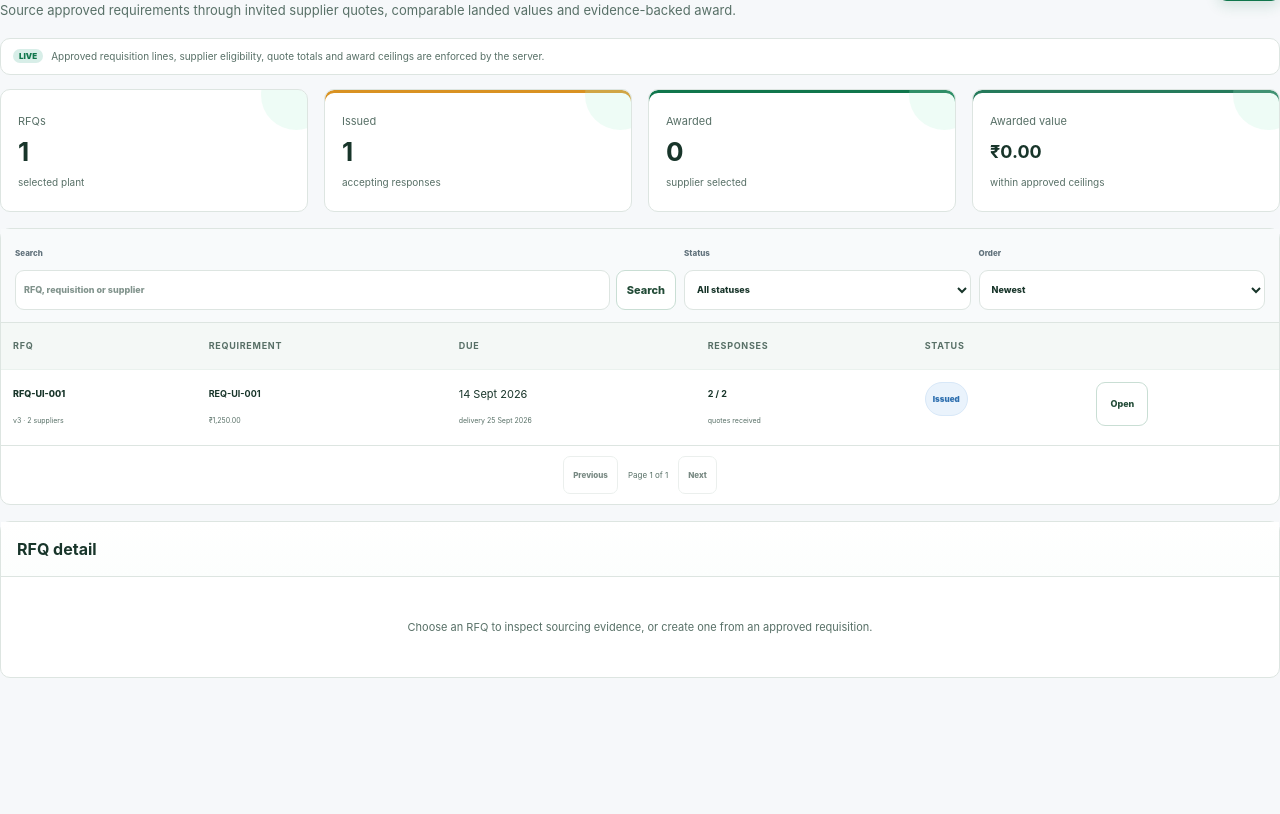
Test case: request for quotation workspace › awards the selected comparison row with non-lowest-offer evidence
The image size is (1280, 814).
Click the button "Open" at (1122,404), box [1096,382,1148,426]
(page scrolled)
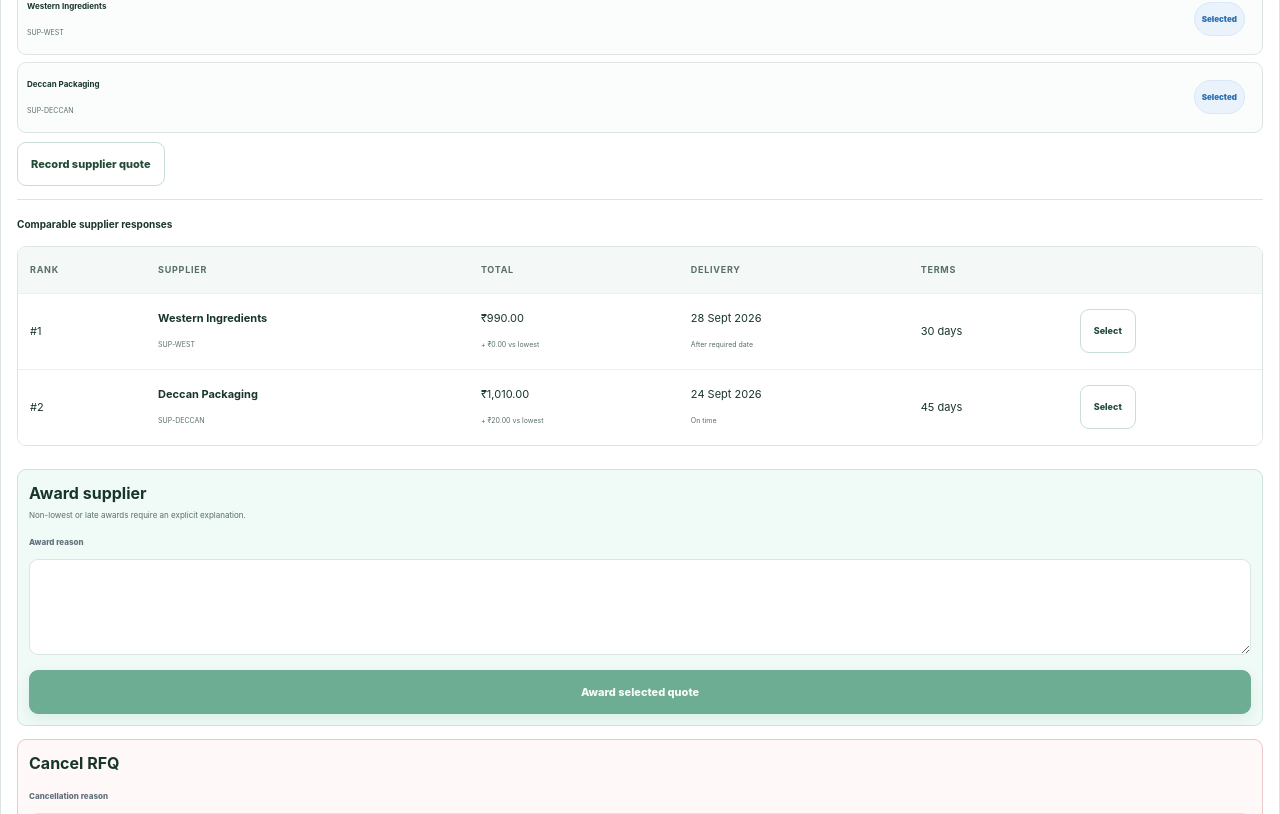
Click the button "Select" in the row of "₹1,010.00" at (1108,407), box [1080,385,1136,429]
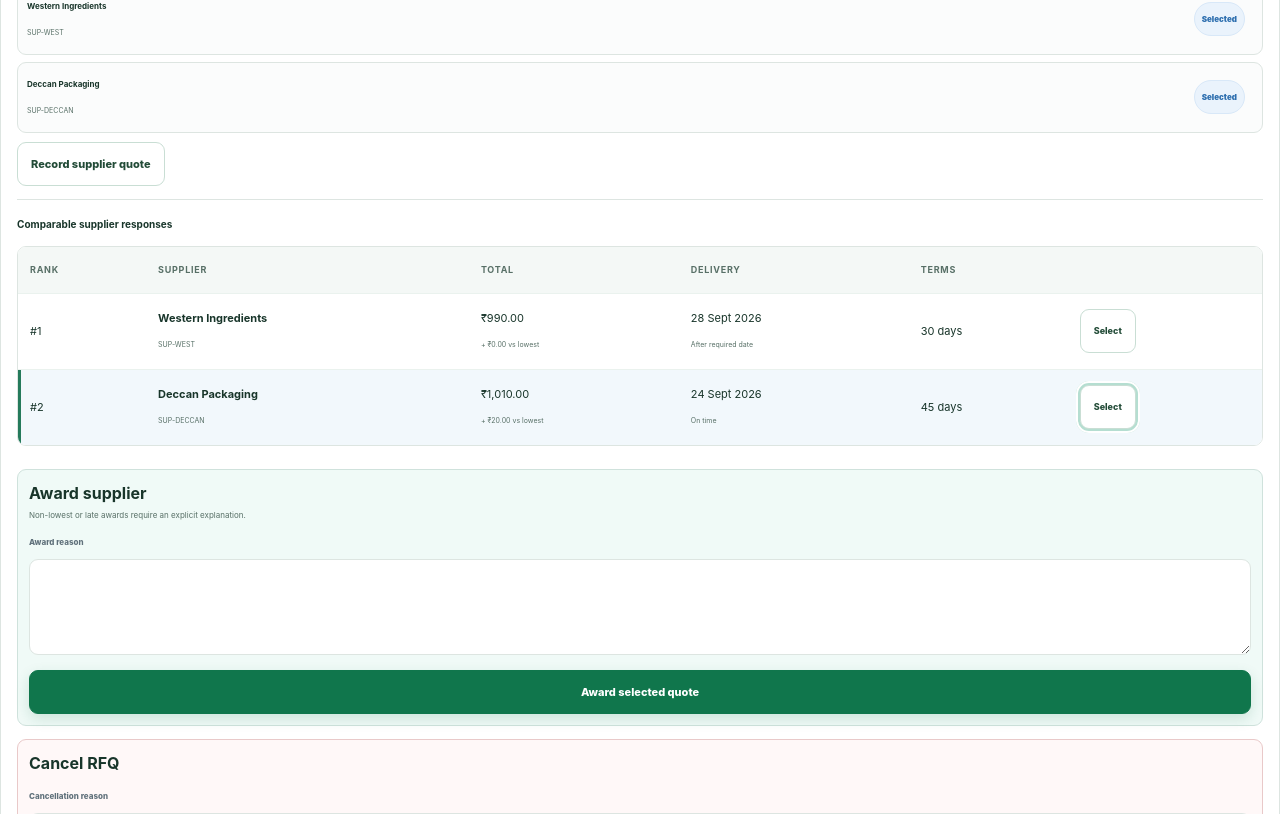
Type "Earlier compliant delivery protects the production plan." into the text box labelled "Award reason" at (640,607), box [29,559,1251,655]
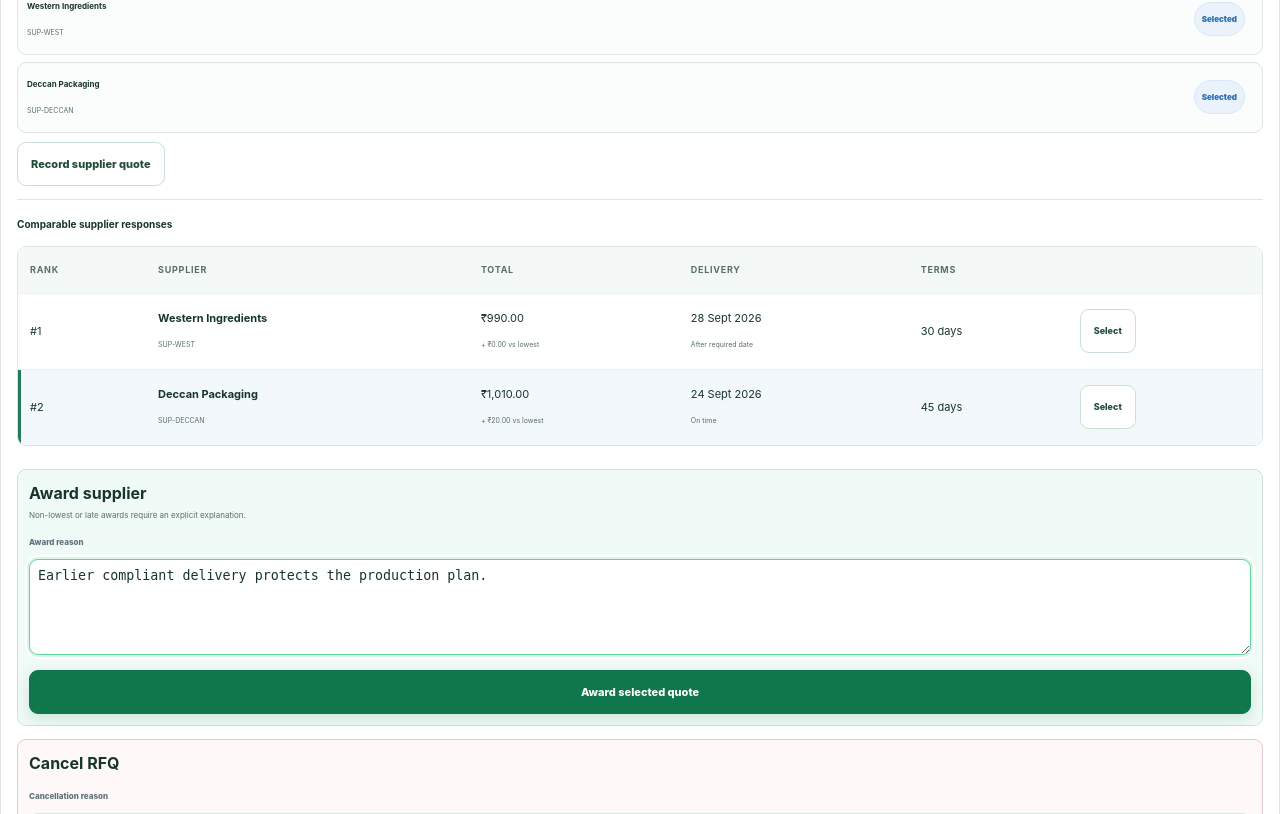
Click the button "Award selected quote" at (640,692), box [29,670,1251,714]
(page scrolled)
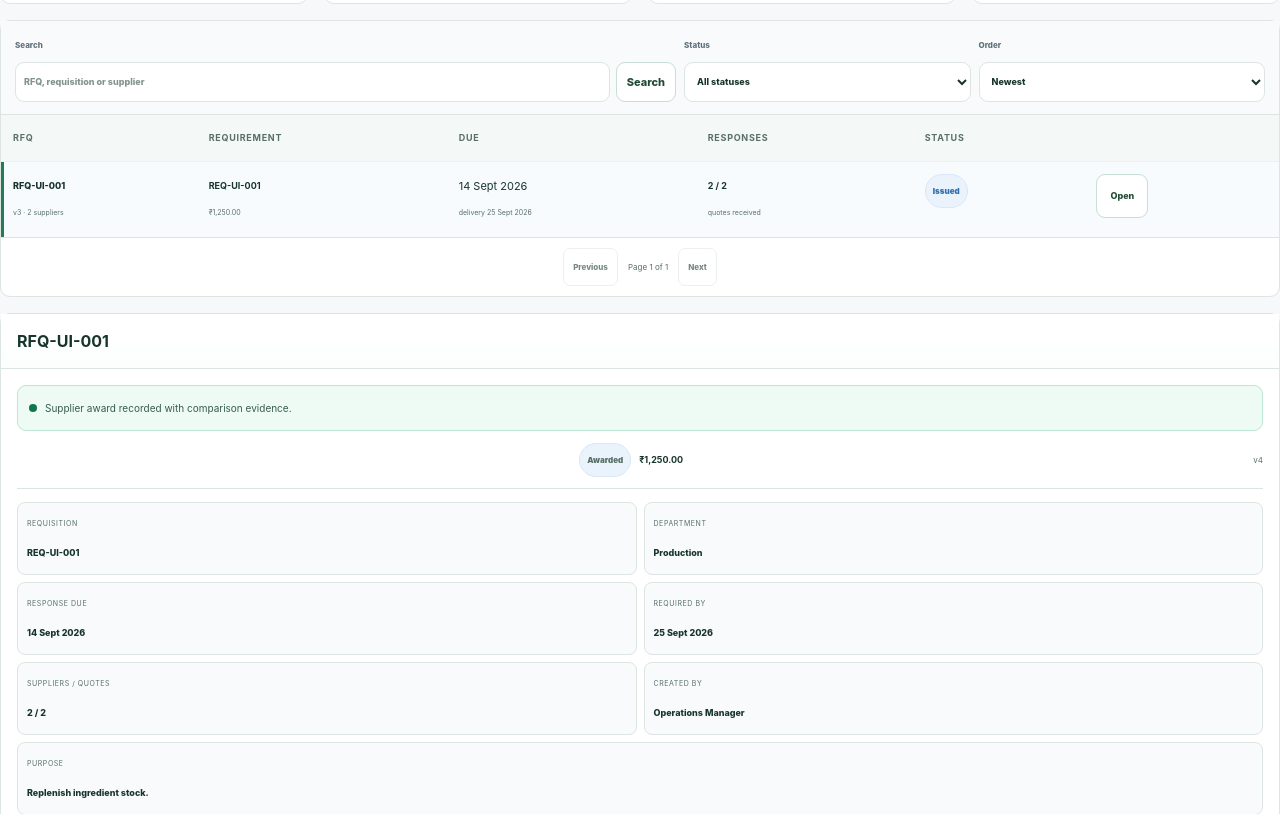
Expected: the text "Supplier award recorded with comparison evidence." is shown, [17,385,1263,431]
